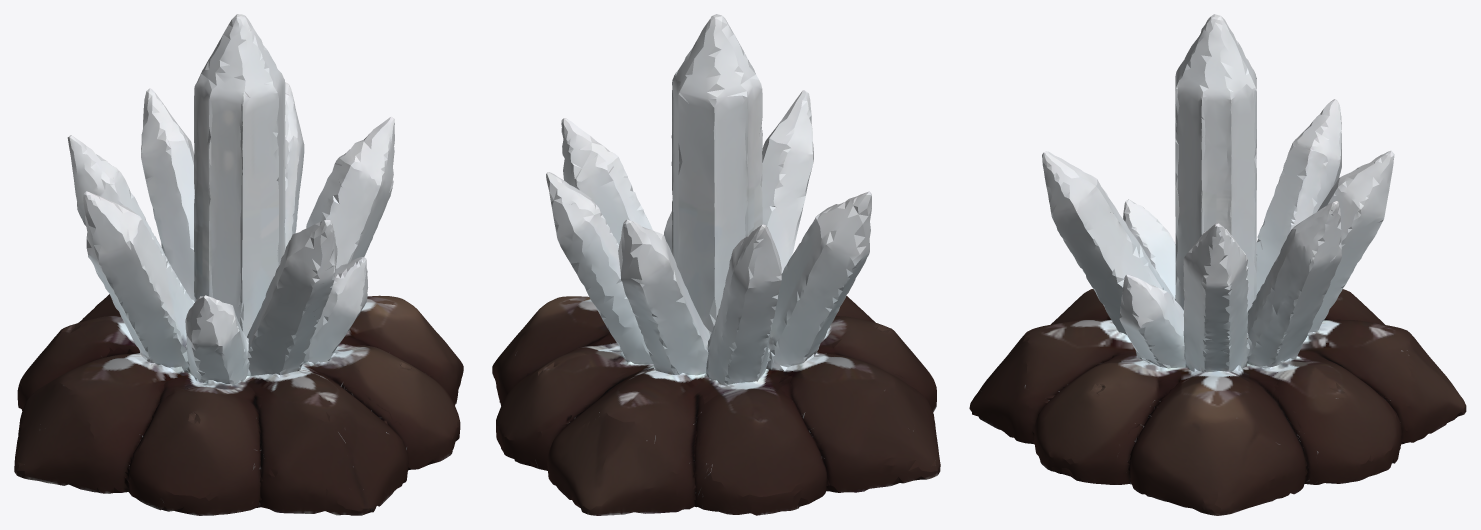
The model's file is Node_Silica.glb.
3 renders of one model, left to right at view 1: azimuth 30°, elevation 25°; view 2: azimuth 150°, elevation 25°; view 3: azimuth 270°, elevation 25°, orthographic. The views are drawn at different scales.
Visible parts, largest first — view 1: Node_Silica; view 2: Node_Silica; view 3: Node_Silica.
Boxes of the visible parts, x1,y1,x2,y2 form: Node_Silica: (14, 14, 463, 515); Node_Silica: (492, 14, 940, 515); Node_Silica: (969, 14, 1466, 515).
Bounding box in the file's own units: 1.89 × 1.66 × 1.89.
Materials: 1 (1 with a texture image).
